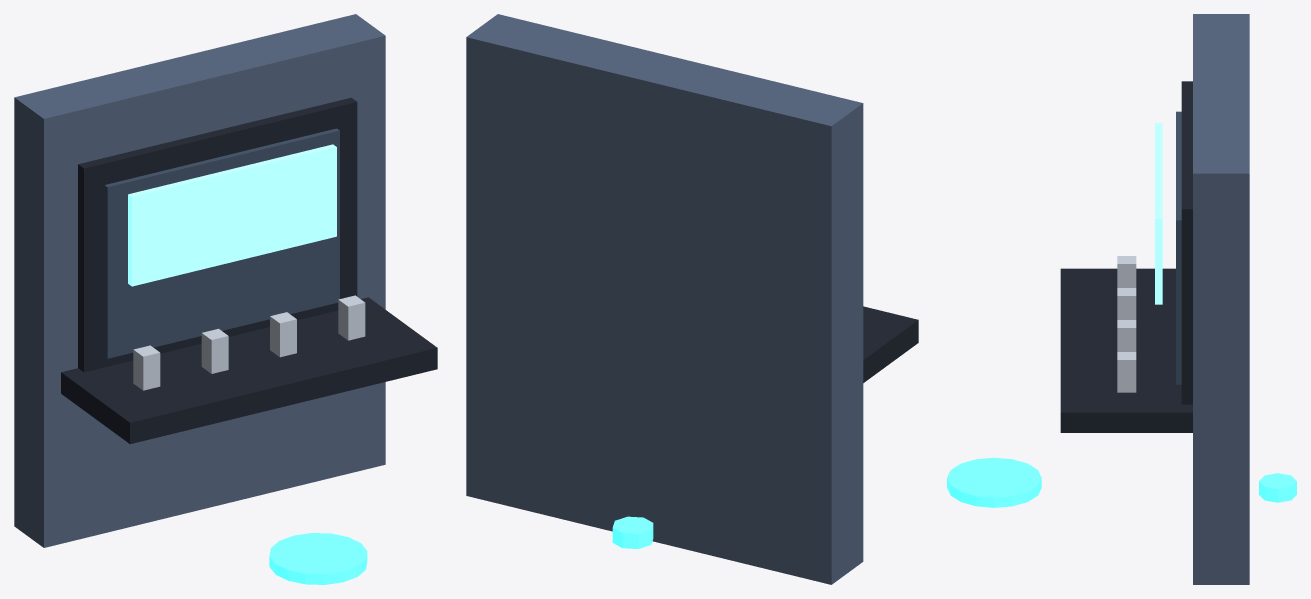
The model's file is mod_reparacion.fbx.
3 views of the same model, side by side, from view 1: azimuth 30°, elevation 25°; view 2: azimuth 150°, elevation 25°; view 3: azimuth 270°, elevation 25° (orthographic). The views are drawn at different scales.
Parts seen in each view (by area): view 1: Estacion_reparacion, Estacion_reparacion_Neon, Estacion_reparacion_Marca; view 2: Estacion_reparacion, Estacion_reparacion_Conectores; view 3: Estacion_reparacion, Estacion_reparacion_Marca, Estacion_reparacion_Neon, Estacion_reparacion_Conectores.
Part boxes in pixels (x1,y1,x2,y2): Estacion_reparacion: (14, 14, 437, 547); Estacion_reparacion_Neon: (128, 144, 336, 286); Estacion_reparacion_Marca: (269, 533, 367, 584); Estacion_reparacion: (466, 14, 918, 584); Estacion_reparacion_Conectores: (612, 516, 653, 548); Estacion_reparacion: (1060, 14, 1249, 584); Estacion_reparacion_Marca: (947, 457, 1041, 507); Estacion_reparacion_Neon: (1155, 123, 1162, 304); Estacion_reparacion_Conectores: (1259, 473, 1296, 502).
Size of the model in its own units: 0.56 by 0.672 by 0.518.
